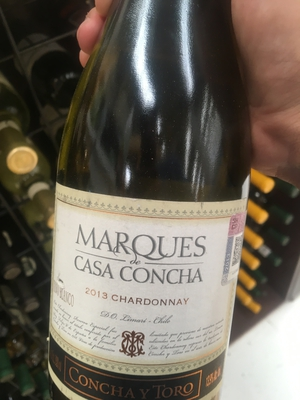marques de casa concha chardonnay: (42, 10, 271, 400)
